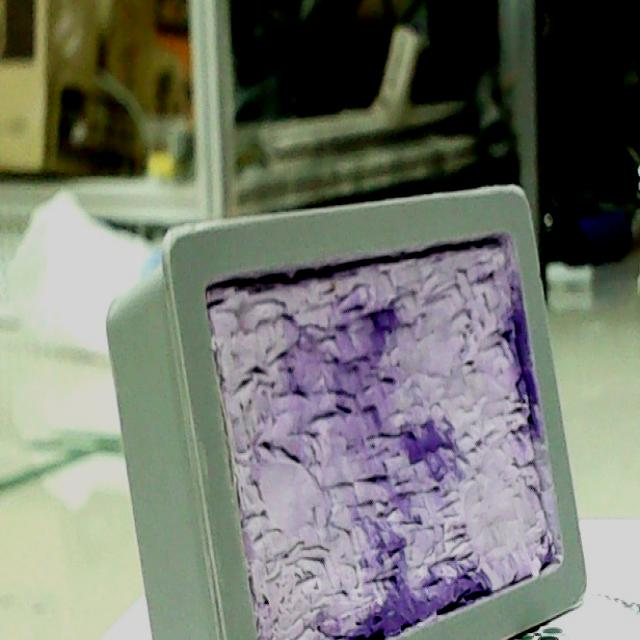block: (123, 181, 589, 640)
